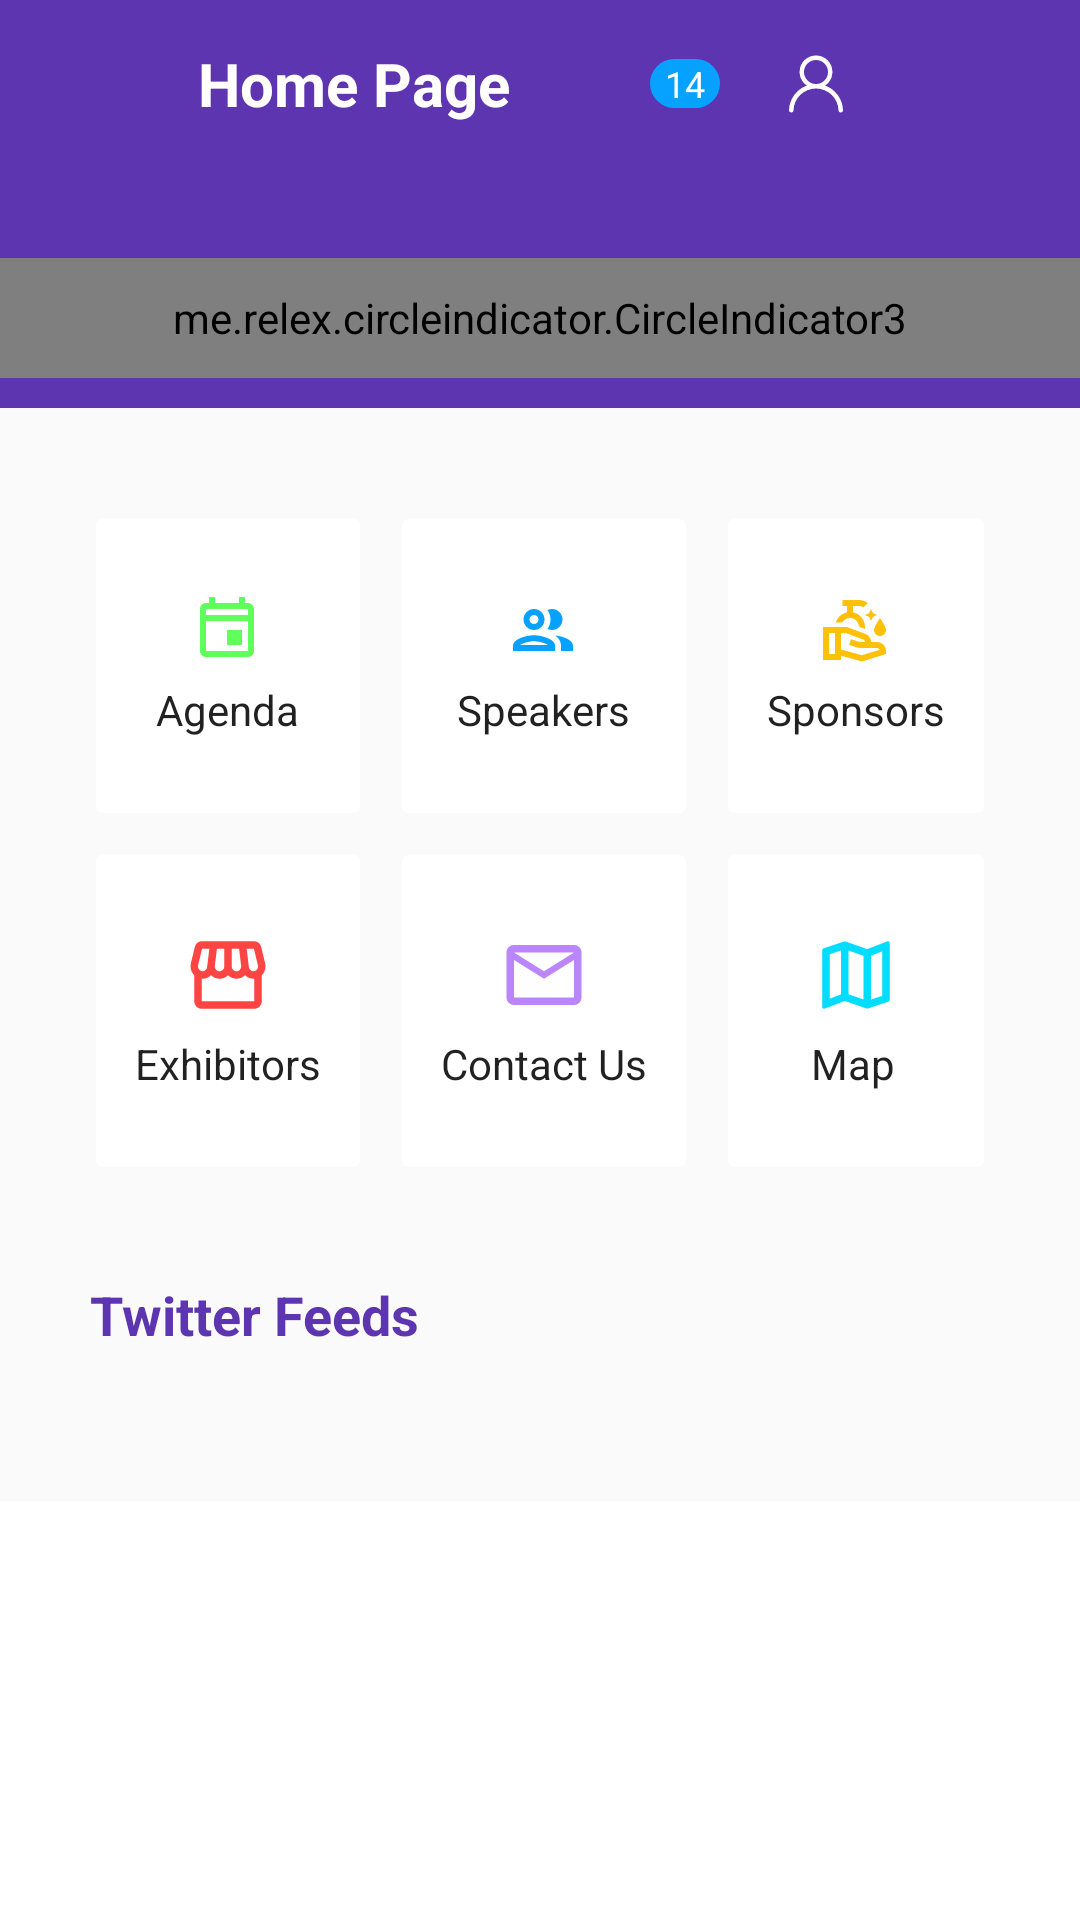

Locate icon controls on the screen. Image size 1080px×1920px, boxes as rect(x1, y1, x2, y2).
toolbar user: rect(789, 55, 843, 113)
